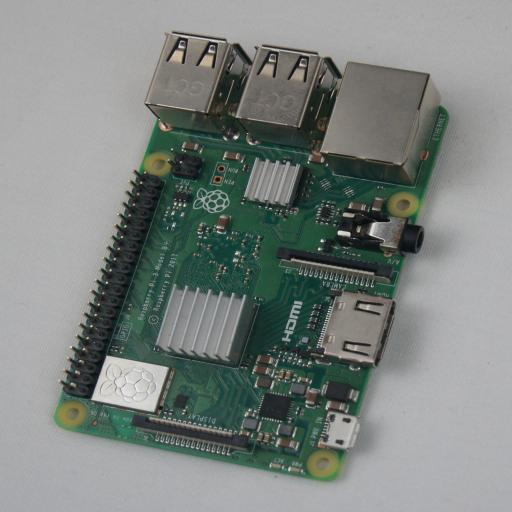Raspberry Pi 3 B-: (59, 32, 451, 481)
